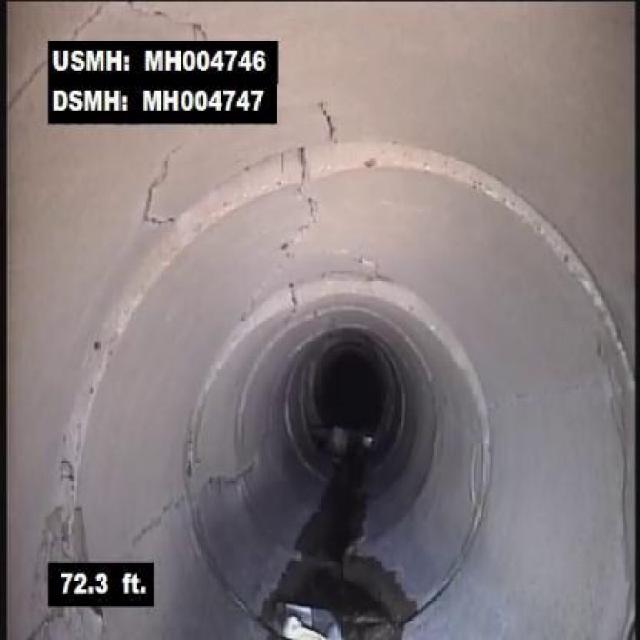Crack: (137, 133, 189, 230), (108, 497, 184, 554), (275, 188, 323, 274), (128, 4, 212, 38), (9, 62, 48, 103), (314, 91, 341, 146), (188, 471, 242, 497), (29, 606, 65, 639), (71, 1, 103, 37)
Debris: (269, 597, 346, 640)
Joint offset: (70, 235, 172, 412), (309, 140, 489, 183), (192, 146, 296, 217), (497, 174, 578, 258)
